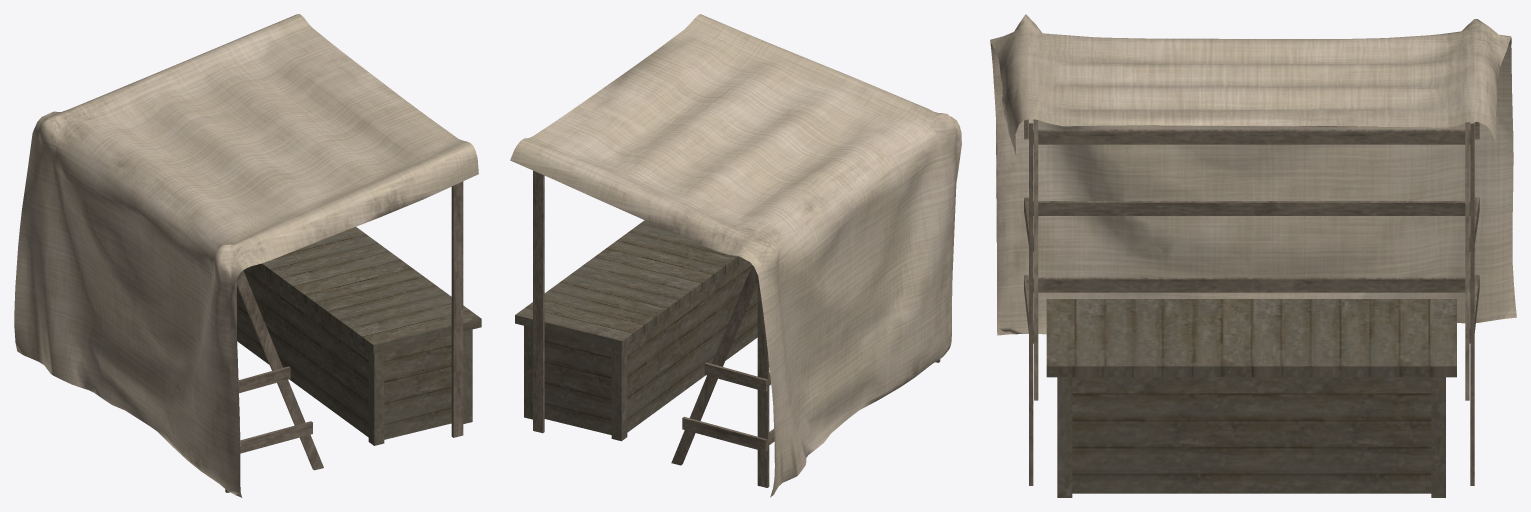
The model's file is MarketStall.fbx.
The picture shows the model from 3 angles, left to right: view 1: azimuth 30°, elevation 25°; view 2: azimuth 150°, elevation 25°; view 3: azimuth 270°, elevation 25°; orthographic projection. The views are drawn at different scales.
Visible parts, largest first — view 1: Canvas, Table, Stall; view 2: Canvas, Table, Stall; view 3: Canvas, Table, Stall.
Part boxes in pixels (<box>): Canvas: <box>14,14,478,497</box>; Table: <box>237,227,481,445</box>; Stall: <box>225,181,463,492</box>; Canvas: <box>510,14,961,497</box>; Table: <box>515,220,757,441</box>; Stall: <box>533,170,940,487</box>; Canvas: <box>990,14,1516,335</box>; Table: <box>1046,299,1456,497</box>; Stall: <box>1024,119,1479,485</box>.
Size of the model in its own units: 287 by 279 by 358.
